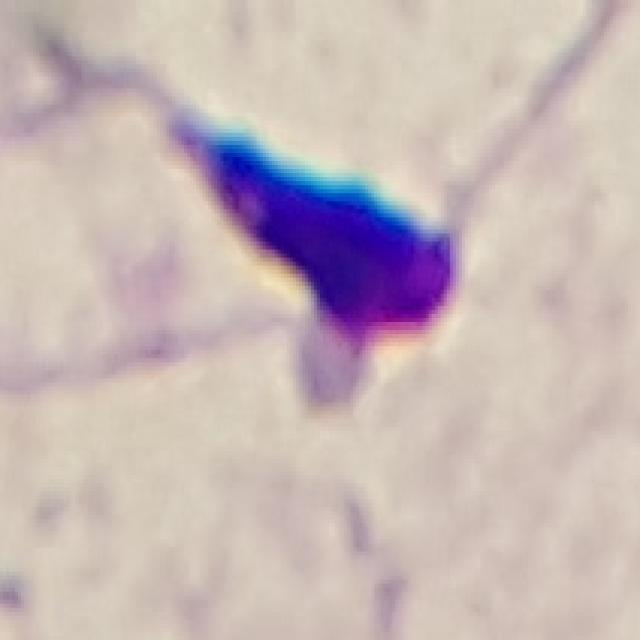abnormal sperm: (41, 54, 477, 382)
